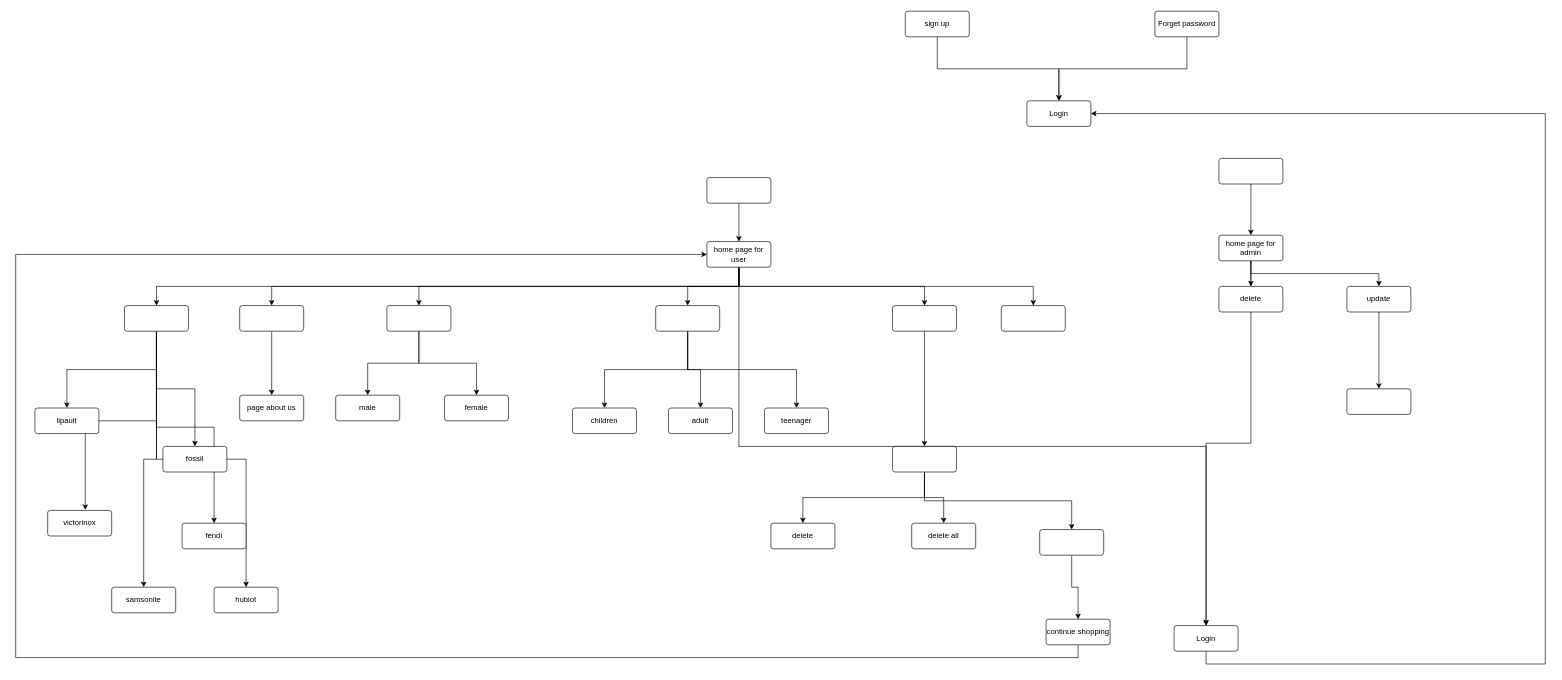
Some shapes in this 1562 by 680 pixel diagram are drawn without their labels. Here are the shapes that lost their labels. From the top down, the box of each, then its label:
(706, 177, 771, 203): user
(1218, 158, 1283, 184): admin
(124, 305, 188, 331): logo of brands
(239, 305, 304, 331): about us
(386, 305, 451, 331): gender
(655, 305, 720, 331): filter
(892, 305, 956, 331): products
(1001, 305, 1065, 331): search
(1346, 388, 1411, 414): page for update
(892, 446, 956, 472): add to cart
(1039, 529, 1104, 555): proceed to check out
